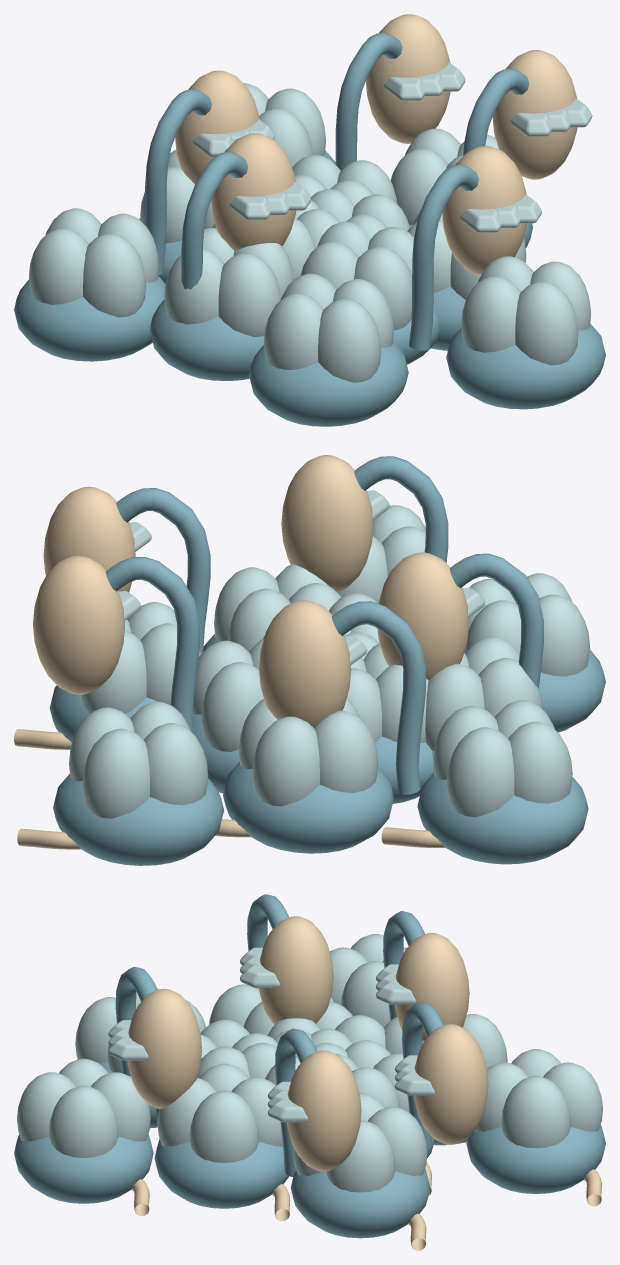
Rendered from bio_oxygen_reef_13_near.glb.
The picture shows the model from 3 angles, top to bottom: view 1: azimuth 30°, elevation 25°; view 2: azimuth 150°, elevation 25°; view 3: azimuth 270°, elevation 25°; orthographic projection. The views are drawn at different scales.
Visible parts, largest first — view 1: Lobed gas sac.036, Lobed gas sac.028, Lobed gas sac.040, Lobed gas sac.016, Photosynthetic cushion.007, Photosynthetic cushion.010, Photosynthetic cushion.009, Lobed gas sac.008, Pendant spore capsule.003, Pendant spore capsule, Pendant spore capsule.002, Pendant spore capsule.004 (+21 smaller); view 2: Lobed gas sac.044, Lobed gas sac.036, Lobed gas sac.024, Pendant spore capsule.003, Pendant spore capsule.002, Pendant spore capsule.001, Photosynthetic cushion.011, Photosynthetic cushion.009, Photosynthetic cushion.006, Pendant spore capsule.004, Lobed gas sac.028, Lobed gas sac.016 (+19 smaller); view 3: Lobed gas sac.040, Lobed gas sac.044, Lobed gas sac.020, Pendant spore capsule.003, Pendant spore capsule, Pendant spore capsule.002, Photosynthetic cushion.010, Photosynthetic cushion.008, Photosynthetic cushion.011, Lobed gas sac.032, Photosynthetic cushion.005, Pendant spore capsule.004 (+23 smaller).
Part boxes in pixels (x1,y1,x2,y2): Lobed gas sac.036: [29, 208, 158, 317]; Lobed gas sac.028: [263, 273, 393, 382]; Lobed gas sac.040: [461, 256, 590, 365]; Lobed gas sac.016: [164, 228, 293, 337]; Photosynthetic cushion.007: [249, 341, 408, 426]; Photosynthetic cushion.010: [446, 324, 605, 409]; Photosynthetic cushion.009: [14, 276, 165, 361]; Lobed gas sac.008: [300, 221, 413, 330]; Pendant spore capsule.003: [365, 14, 450, 143]; Pendant spore capsule: [492, 50, 577, 179]; Pendant spore capsule.002: [442, 146, 526, 275]; Pendant spore capsule.004: [211, 133, 296, 250]; Lobed gas sac.044: [69, 701, 208, 818]; Lobed gas sac.036: [433, 700, 572, 817]; Lobed gas sac.024: [239, 698, 377, 806]; Pendant spore capsule.003: [33, 555, 124, 694]; Pendant spore capsule.002: [281, 455, 373, 592]; Pendant spore capsule.001: [259, 600, 351, 727]; Photosynthetic cushion.011: [53, 774, 223, 865]; Photosynthetic cushion.009: [417, 772, 588, 864]; Photosynthetic cushion.006: [223, 762, 393, 853]; Pendant spore capsule.004: [377, 552, 469, 680]; Lobed gas sac.028: [464, 573, 589, 676]; Lobed gas sac.016: [425, 636, 542, 751]; Lobed gas sac.040: [17, 1058, 150, 1157]; Lobed gas sac.044: [474, 1049, 602, 1148]; Lobed gas sac.020: [157, 1063, 282, 1162]; Pendant spore capsule.003: [414, 1024, 488, 1144]; Pendant spore capsule: [287, 1050, 361, 1171]; Pendant spore capsule.002: [127, 988, 201, 1109]; Photosynthetic cushion.010: [14, 1134, 153, 1203]; Photosynthetic cushion.008: [290, 1169, 430, 1238]; Photosynthetic cushion.011: [466, 1125, 605, 1193]; Lobed gas sac.032: [293, 1093, 427, 1192]; Photosynthetic cushion.005: [154, 1139, 289, 1208]; Pendant spore capsule.004: [259, 916, 333, 1024].
Bounding box in the file's own units: 1.92 × 0.7745 × 2.03.
